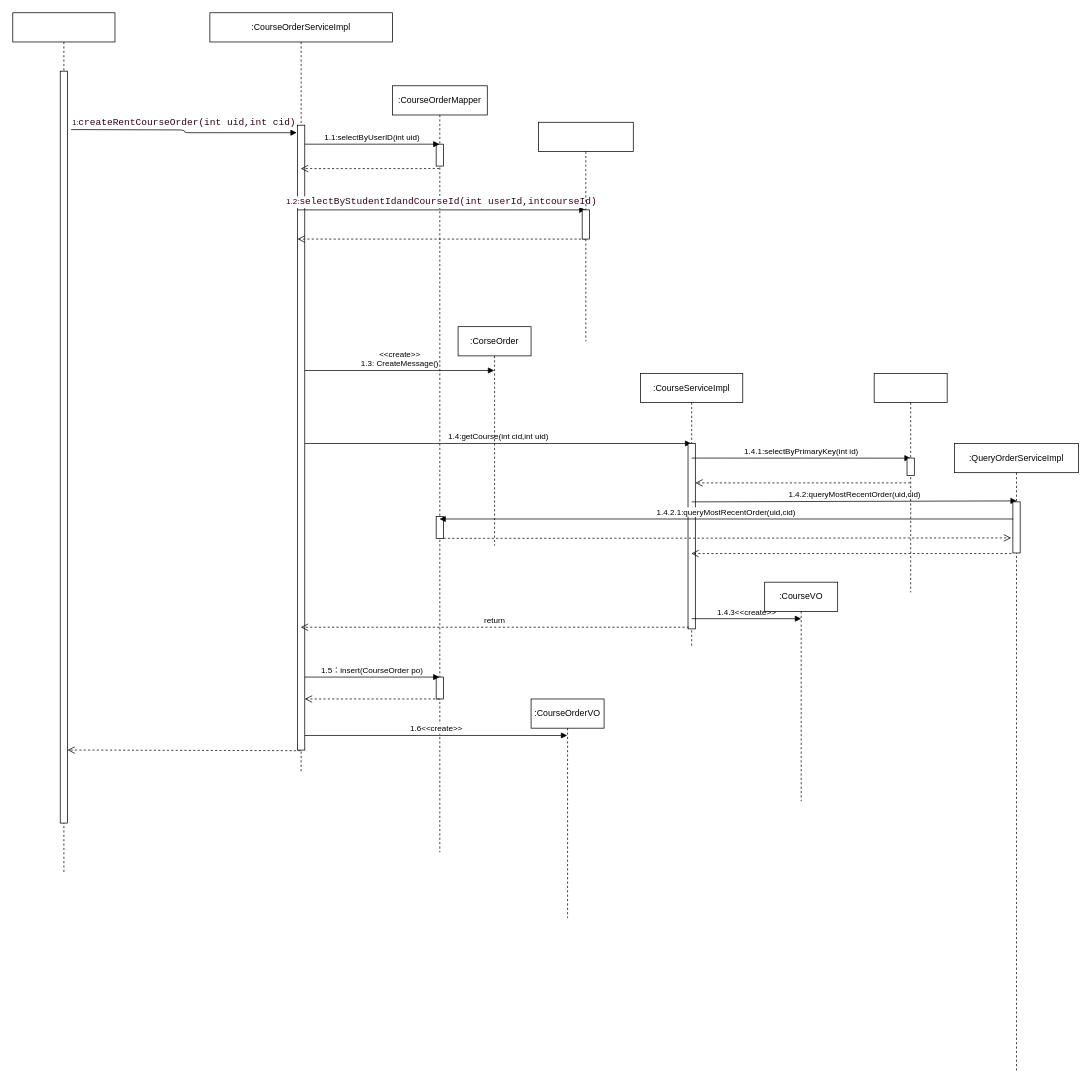
Some shapes in this 1091 by 1084 pixel diagram are drawn without their labels. Here are the shapes that lost their labels. From the top down, the box of each, then its label:
(538, 122, 633, 341): :CourseRentMapper
(12, 12, 115, 874): :CourseRentUi
(873, 373, 947, 592): :CourseMapper
